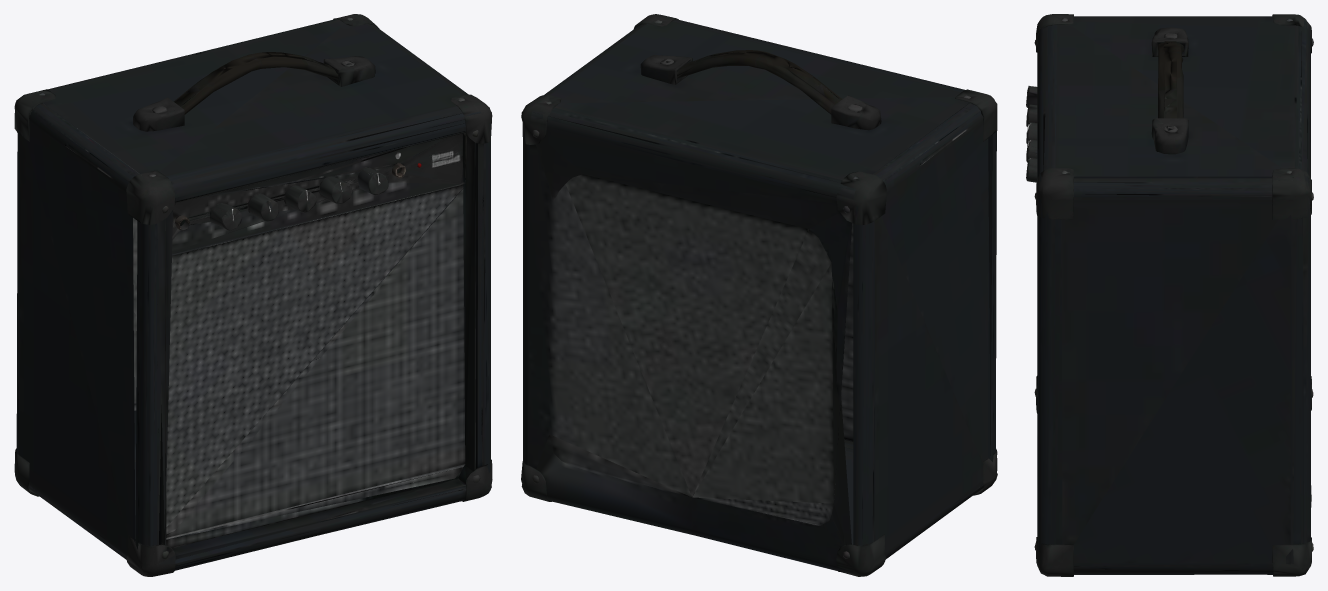
The model's file is mobile.glb.
3 renders of one model, left to right at view 1: azimuth 30°, elevation 25°; view 2: azimuth 150°, elevation 25°; view 3: azimuth 270°, elevation 25°, orthographic.
Parts seen in each view (by area): view 1: bassamp; view 2: bassamp; view 3: bassamp.
Boxes of the visible parts, x1=… form: bassamp: x1=14, y1=14, x2=492, y2=576; bassamp: x1=521, y1=14, x2=997, y2=576; bassamp: x1=1026, y1=14, x2=1313, y2=576.
Size of the model in its own units: 0.4221 by 0.5001 by 0.294.
1 material, 1 textured.
